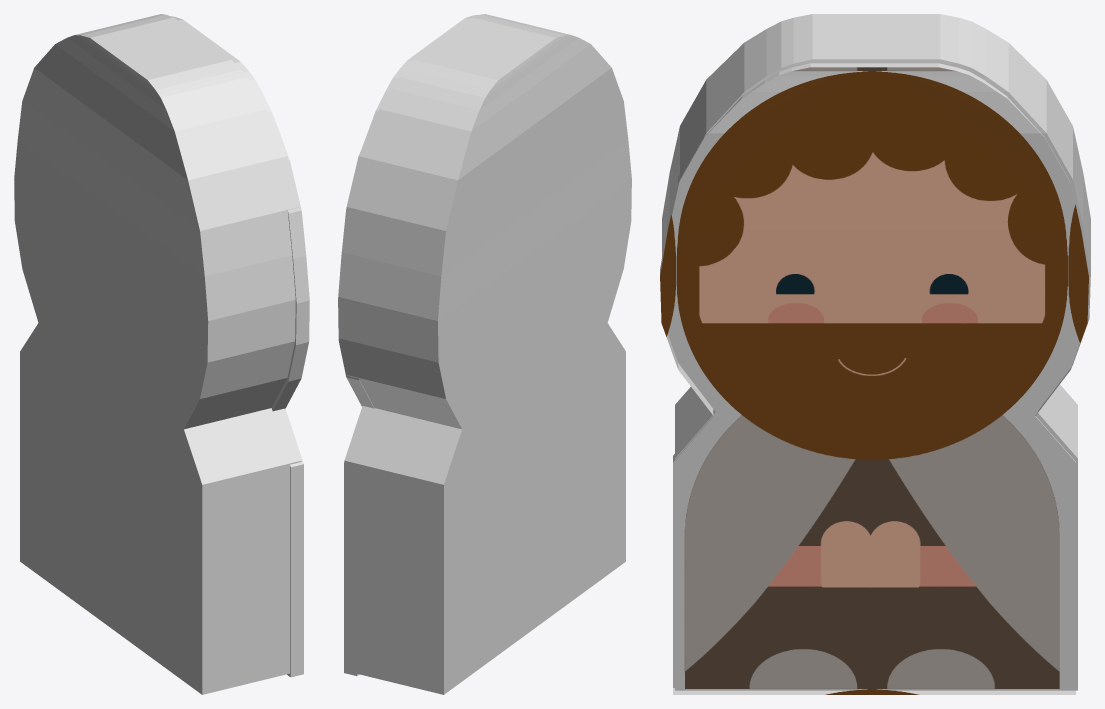
Rendered from testobjekt2.dae.
The picture shows the model from 3 angles, left to right: view 1: azimuth 30°, elevation 25°; view 2: azimuth 150°, elevation 25°; view 3: azimuth 270°, elevation 25°; orthographic projection. The views are drawn at different scales.
Parts seen in each view (by area): view 1: Cube, Cube_001; view 2: Cube, Cube_001; view 3: Cube_001, Cube.
Part boxes in pixels (bbox=[...]): Cube: bbox=[14, 14, 301, 694]; Cube_001: bbox=[171, 16, 309, 677]; Cube: bbox=[338, 14, 631, 694]; Cube_001: bbox=[338, 15, 478, 675]; Cube_001: bbox=[660, 63, 1088, 694]; Cube: bbox=[662, 14, 1090, 690].
Bounding box in the file's own units: 0.5693 × 1.91 × 3.08.
Materials: 1 (1 with a texture image).
